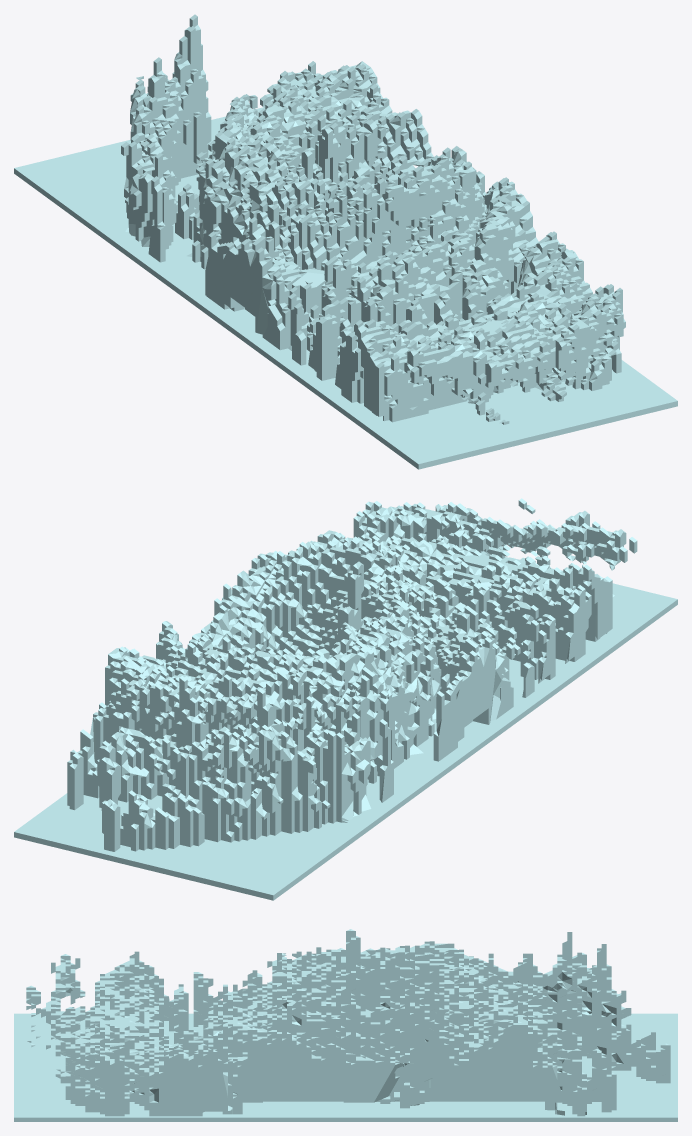
File: gpm_radar_data_-_typhoon_talim_2017-09-13_1540.glb
The picture shows the model from 3 angles, top to bottom: view 1: azimuth 30°, elevation 25°; view 2: azimuth 150°, elevation 25°; view 3: azimuth 270°, elevation 25°; orthographic projection. The views are drawn at different scales.
Visible parts, largest first — view 1: Object_2, Object_3; view 2: Object_2, Object_3; view 3: Object_2, Object_3.
Boxes of the visible parts, bbox=[...] form: Object_2: bbox=[14, 14, 677, 469]; Object_3: bbox=[125, 73, 625, 391]; Object_2: bbox=[14, 498, 677, 900]; Object_3: bbox=[80, 501, 589, 823]; Object_2: bbox=[14, 929, 677, 1121]; Object_3: bbox=[26, 941, 585, 1114].
Bounding box in the file's own units: 50 × 30 × 135.
